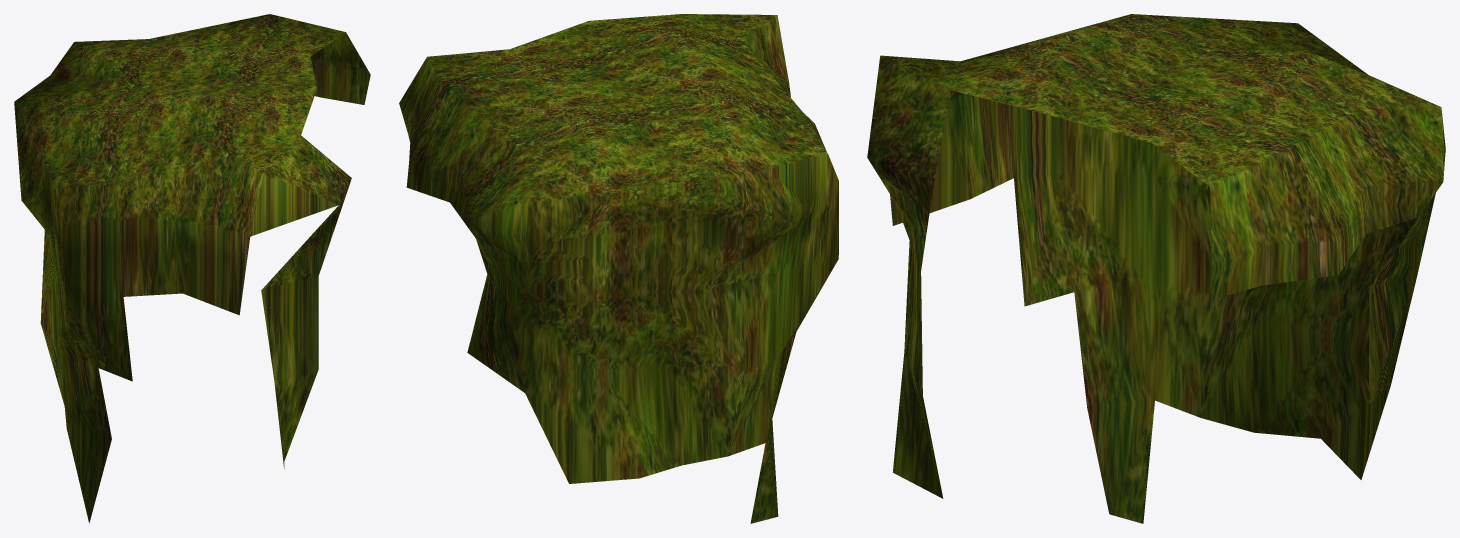
The model's file is TROLLHOLE02_RM_PSURF189.fbx.
The picture shows the model from 3 angles, left to right: view 1: azimuth 30°, elevation 25°; view 2: azimuth 150°, elevation 25°; view 3: azimuth 270°, elevation 25°; orthographic projection. The views are drawn at different scales.
Parts seen in each view (by area): view 1: TROLLHOLE02_RM_PSURF189; view 2: TROLLHOLE02_RM_PSURF189; view 3: TROLLHOLE02_RM_PSURF189.
Part boxes in pixels (x1,y1,x2,y2): TROLLHOLE02_RM_PSURF189: (14, 14, 370, 523); TROLLHOLE02_RM_PSURF189: (399, 14, 838, 523); TROLLHOLE02_RM_PSURF189: (867, 14, 1445, 523).
Size of the model in its own units: 74568 by 81443 by 78130.
1 material, 1 textured.
